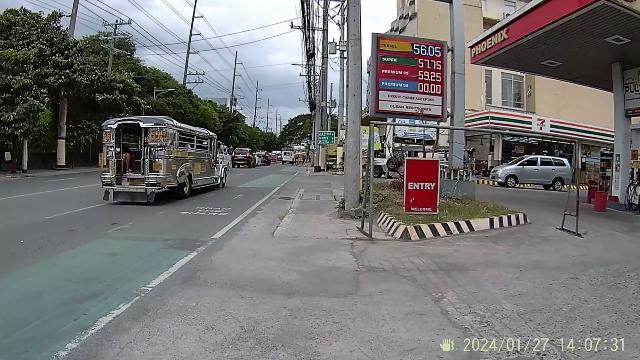car: (98, 115, 228, 201)
utility_post: (294, 5, 330, 176)
